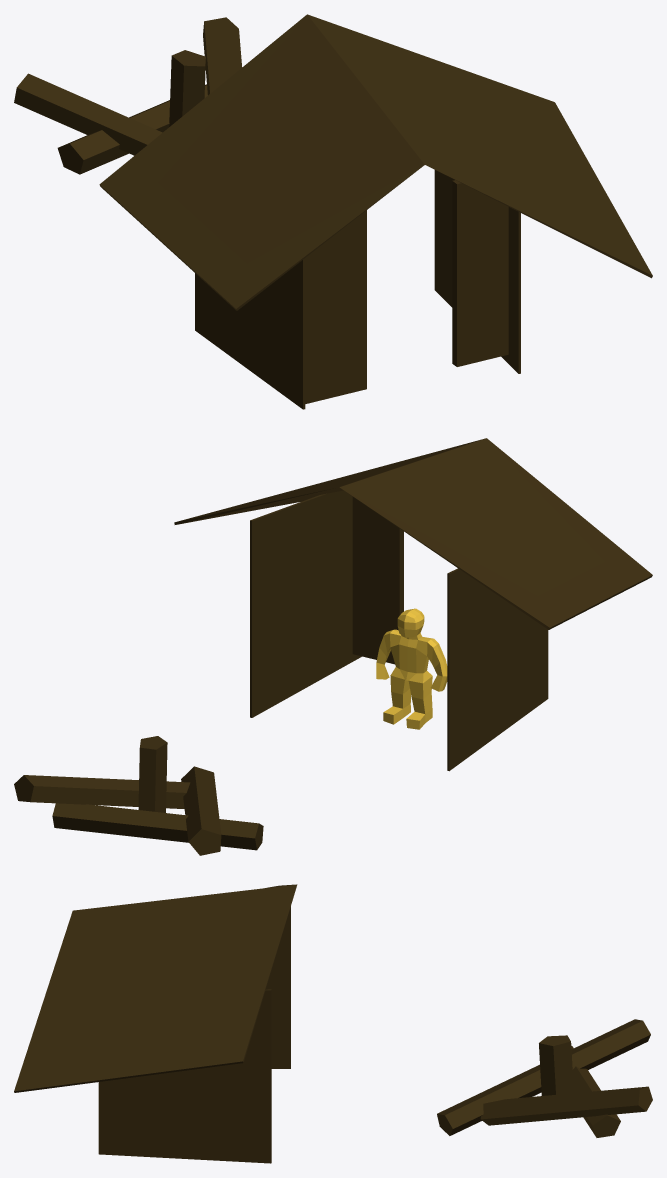
File: camp.glb
The picture shows the model from 3 angles, top to bottom: view 1: azimuth 30°, elevation 25°; view 2: azimuth 150°, elevation 25°; view 3: azimuth 270°, elevation 25°; orthographic projection. The views are drawn at different scales.
Parts seen in each view (by area): view 1: Cube.004, Cube.003, Cube.001, Cube.005, Cube, Cube.002, Cylinder.001, Cylinder, Cylinder.003, Cylinder.002; view 2: Cube.004, Cube.002, Cube, Cube.005, villager, Cylinder, Cylinder.003, Cylinder.001, Cube.003, Cylinder.002; view 3: Cube.003, Cube.002, Cylinder.001, Cylinder.003, Cube, Cylinder.002, Cylinder.
Part boxes in pixels (x1,y1,x2,y2): Cube.004: [99, 14, 424, 310]; Cube.003: [307, 14, 652, 278]; Cube.001: [305, 210, 366, 403]; Cube.005: [452, 180, 508, 366]; Cube: [195, 258, 305, 409]; Cube.002: [434, 170, 520, 373]; Cylinder.001: [14, 73, 162, 155]; Cylinder: [57, 84, 207, 174]; Cylinder.003: [203, 17, 242, 95]; Cylinder.002: [169, 50, 205, 126]; Cube.004: [339, 438, 652, 629]; Cube.002: [250, 490, 361, 717]; Cube: [447, 568, 548, 771]; Cube.005: [352, 497, 403, 664]; villager: [376, 608, 447, 729]; Cylinder: [52, 803, 263, 850]; Cylinder.003: [14, 775, 190, 808]; Cylinder.001: [181, 766, 221, 855]; Cube.003: [174, 438, 484, 524]; Cylinder.002: [138, 736, 167, 812]; Cube.003: [14, 884, 297, 1092]; Cube.002: [98, 989, 271, 1163]; Cylinder.001: [437, 1019, 650, 1135]; Cylinder.003: [480, 1086, 652, 1125]; Cube: [266, 906, 290, 1068]; Cylinder.002: [539, 1035, 573, 1095]; Cylinder: [571, 1046, 620, 1137].
Size of what is drawn, in the model's own units: 8.21 by 5.28 by 13.03.
